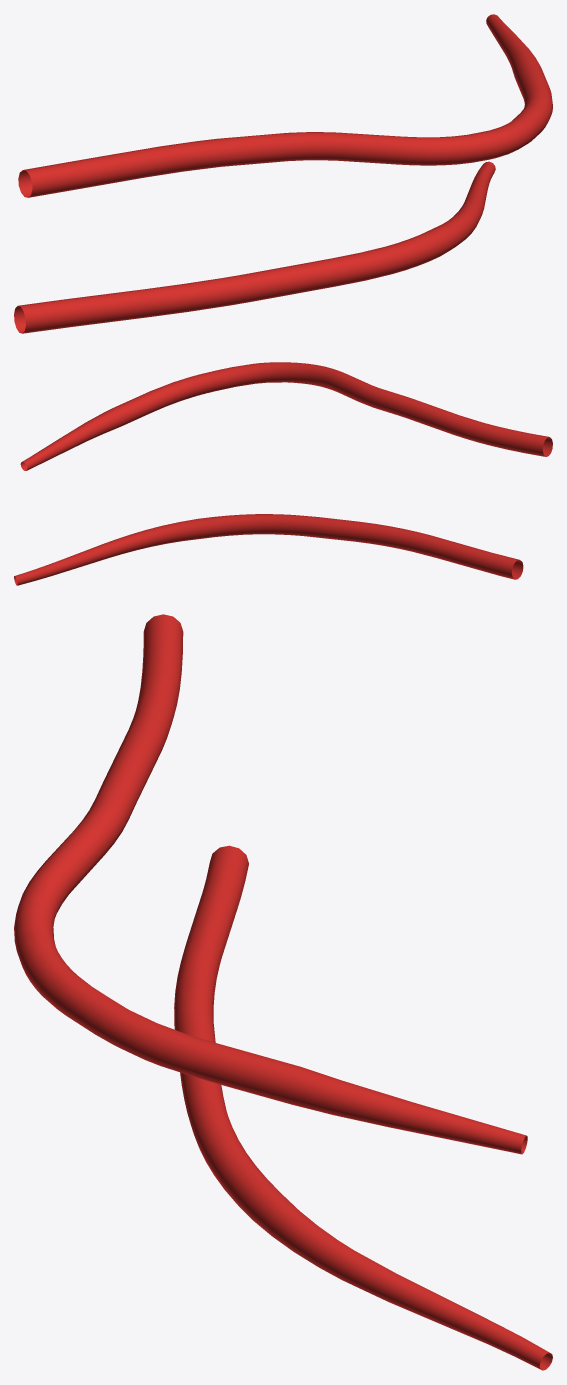
Rendered from circulatorio-medial-pontine-branches-of-basilar-artery-l.glb.
The picture shows the model from 3 angles, top to bottom: view 1: azimuth 30°, elevation 25°; view 2: azimuth 150°, elevation 25°; view 3: azimuth 270°, elevation 25°; orthographic projection. The views are drawn at different scales.
Parts seen in each view (by area): view 1: Medial pontine branches of basilar artery.l; view 2: Medial pontine branches of basilar artery.l; view 3: Medial pontine branches of basilar artery.l.
Part boxes in pixels (x1,y1,x2,y2): Medial pontine branches of basilar artery.l: [14, 14, 552, 333]; Medial pontine branches of basilar artery.l: [14, 362, 552, 585]; Medial pontine branches of basilar artery.l: [14, 614, 552, 1370].
Size of the model in its own units: 0.00986 by 0.0039 by 0.00546.
